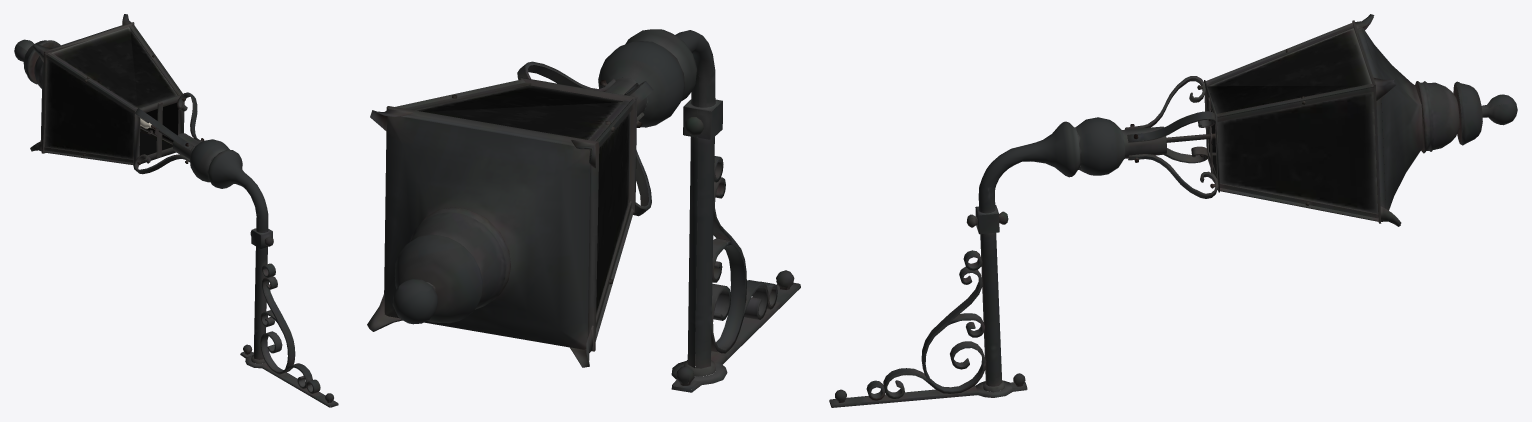
The model's file is street_lamp_fallen.glb.
3 views of the same model, side by side, from view 1: azimuth 30°, elevation 25°; view 2: azimuth 150°, elevation 25°; view 3: azimuth 270°, elevation 25° (orthographic). The views are drawn at different scales.
Visible parts, largest first — view 1: street_lamp_02; view 2: street_lamp_02; view 3: street_lamp_02.
Boxes of the visible parts, x1,y1,x2,y2 form: street_lamp_02: (14, 14, 338, 407); street_lamp_02: (367, 29, 800, 392); street_lamp_02: (829, 14, 1517, 407).
Bounding box in the file's own units: 0.396 × 0.8533 × 1.64.
2 materials, 2 textured.
